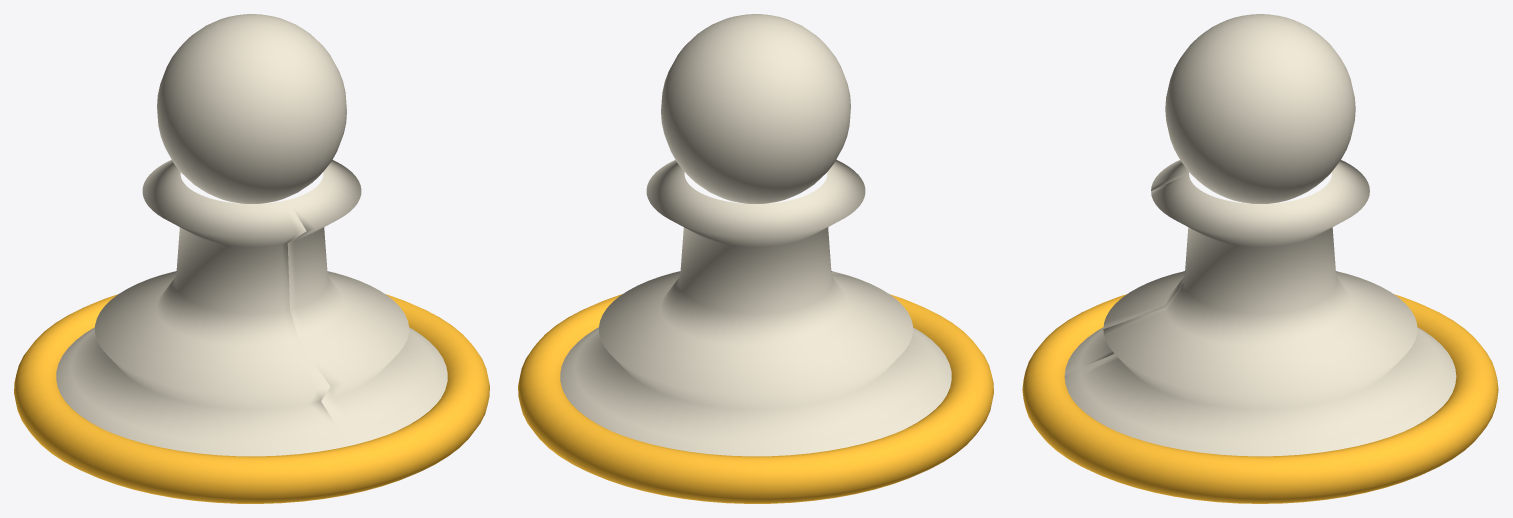
3 views of the same model, side by side, from view 1: azimuth 30°, elevation 25°; view 2: azimuth 150°, elevation 25°; view 3: azimuth 270°, elevation 25° (orthographic).
Bounding box in the file's own units: 1 × 0.9 × 1.
